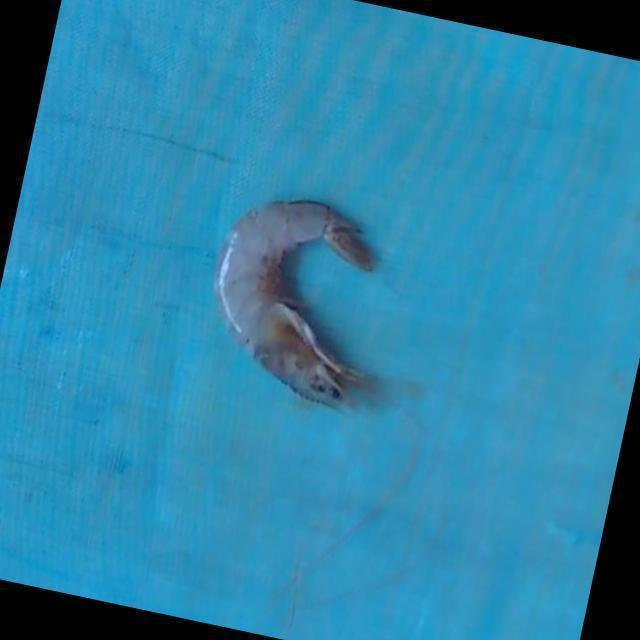shrimp: (216, 202, 371, 405)
